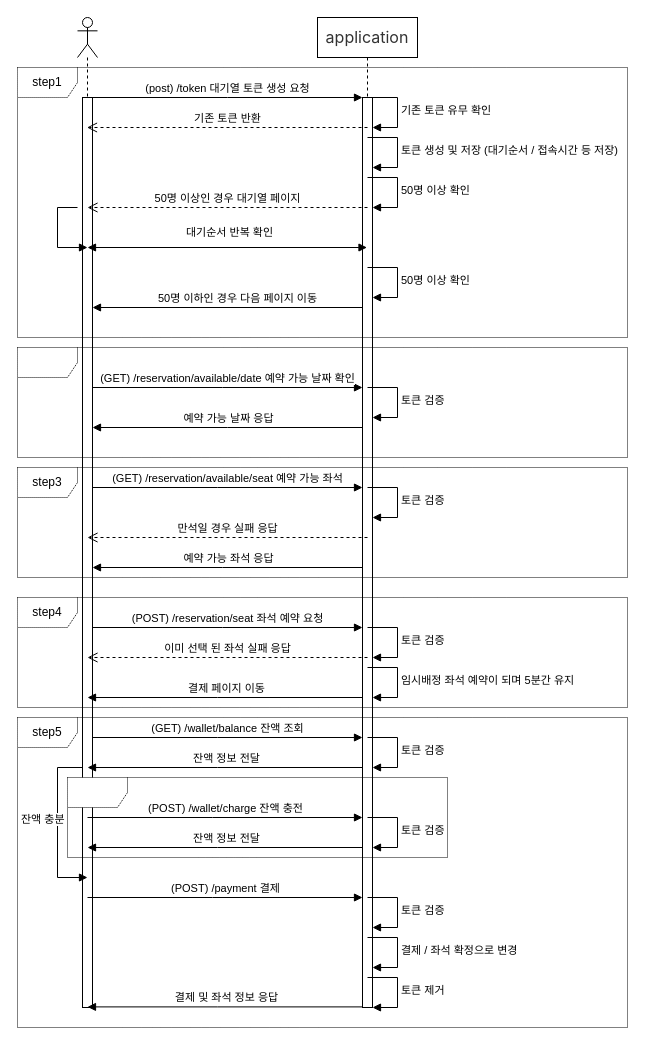
The diagram is 645 pixels wide and 1045 high, and some of its shapes have lost their labels. Each missing label, with the centre of its shape:
step2: pixel 322 402
필요시: pixel 257 817
